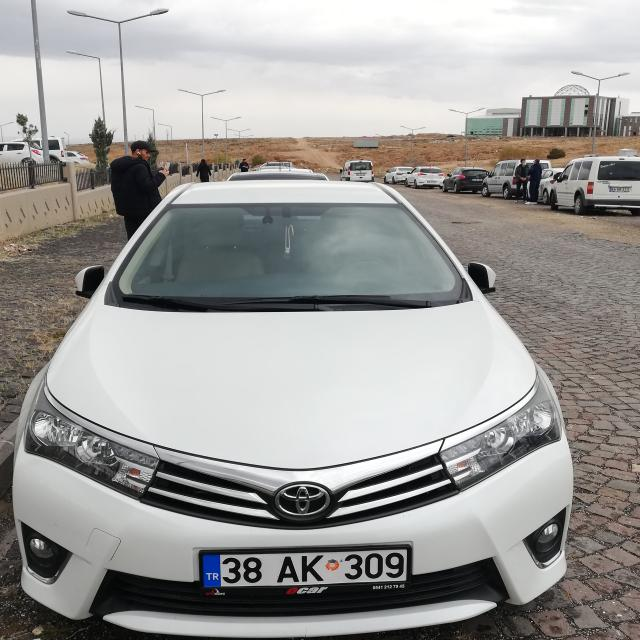license_plate: (201, 548, 409, 592)
